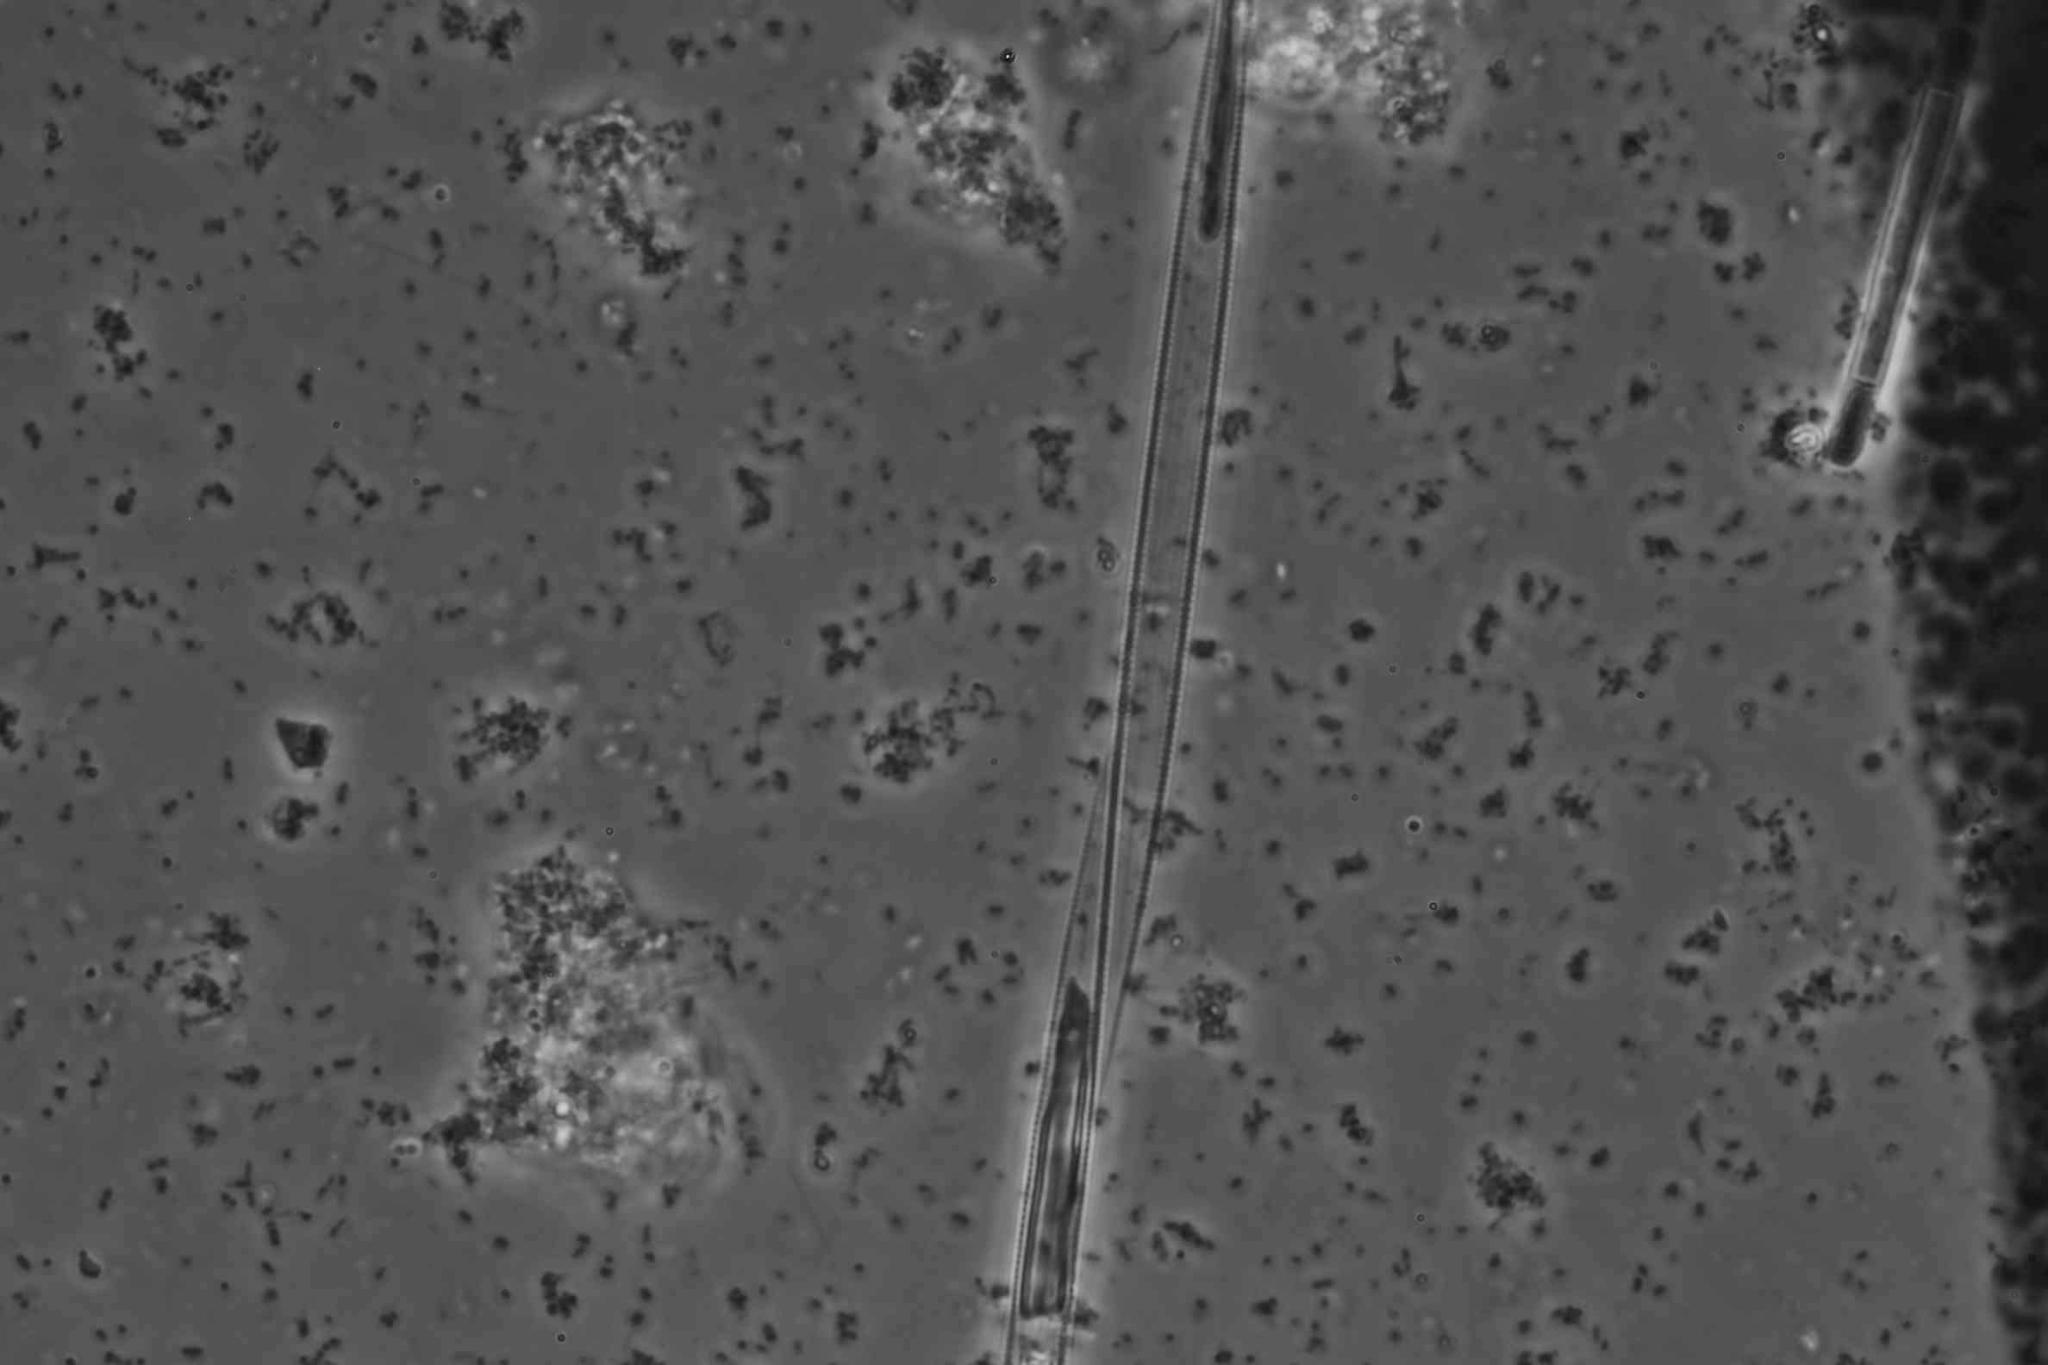trichodesmium_erythraeum: (1010, 0, 1247, 1363)
